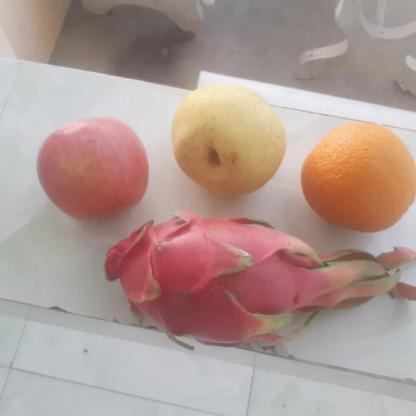apple: (34, 115, 150, 220)
orange: (298, 120, 415, 231)
pear: (166, 86, 290, 197)
pitaya: (88, 209, 320, 330)
